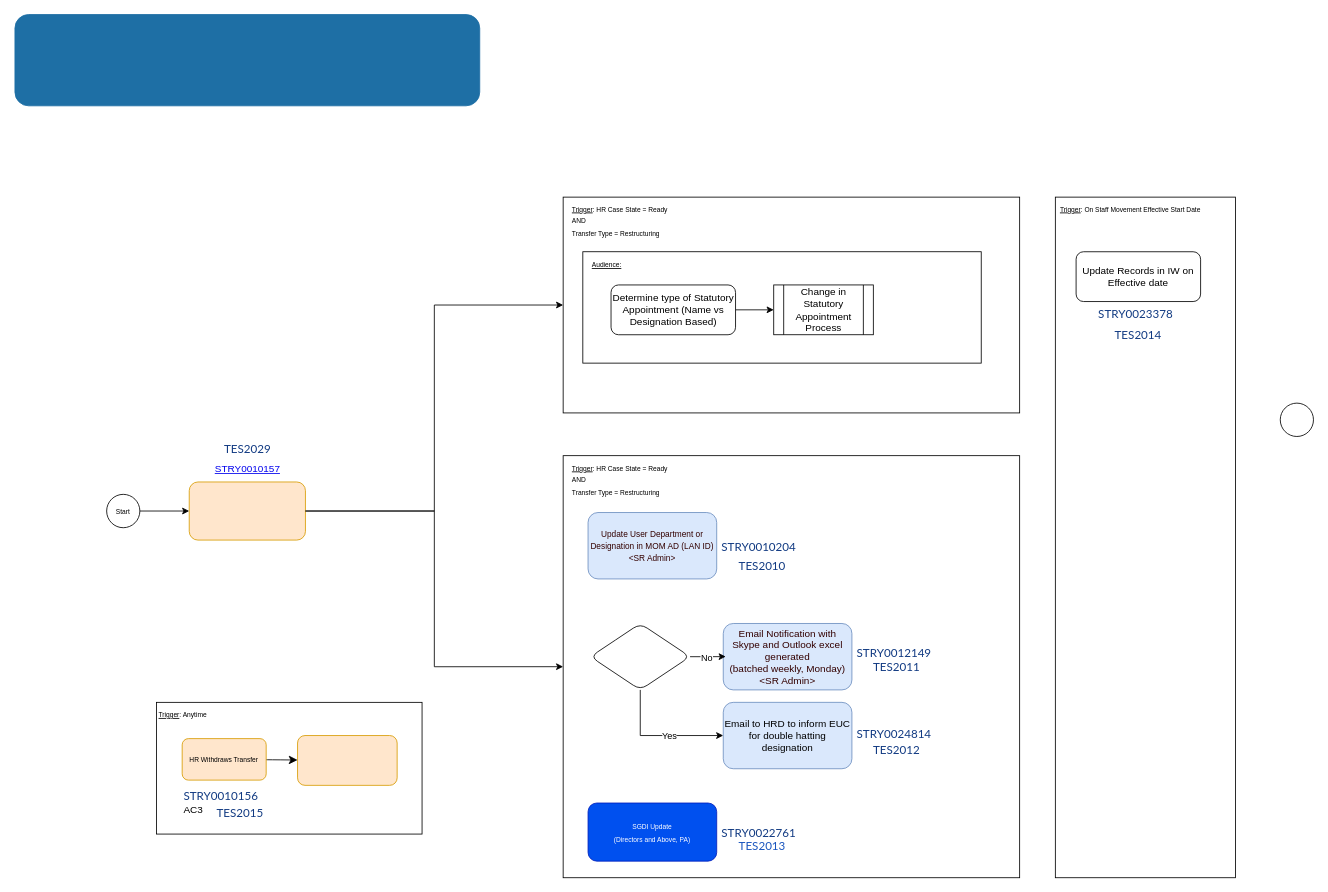
The diagram is 1328 pixels wide and 892 high, and some of its shapes have lost their labels. The shapes that lost their labels are listed below. From the top down, each one's centre as x and y in pixels, then its label:
At pixel 247 60: "Restructuring /Change of Name of Div/Dept/Section/Designation".
At pixel 1296 419: "End".
At pixel 246 510: "Raise a bulk Restructuring request in MOMster 2.0".
At pixel 640 656: "Concurrent Appointment?".
At pixel 347 760: "HR Case Cancelled".
